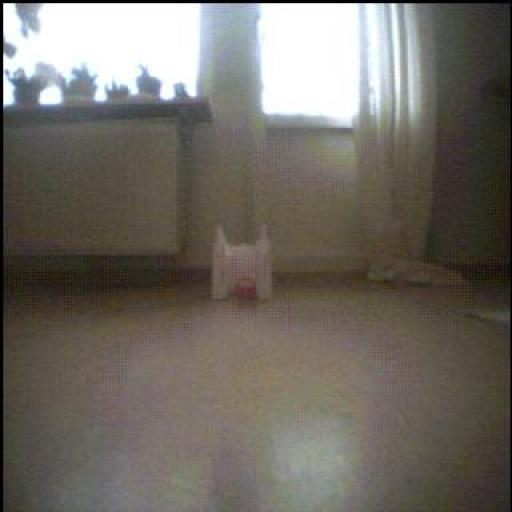Basket: (235, 279, 259, 302)
